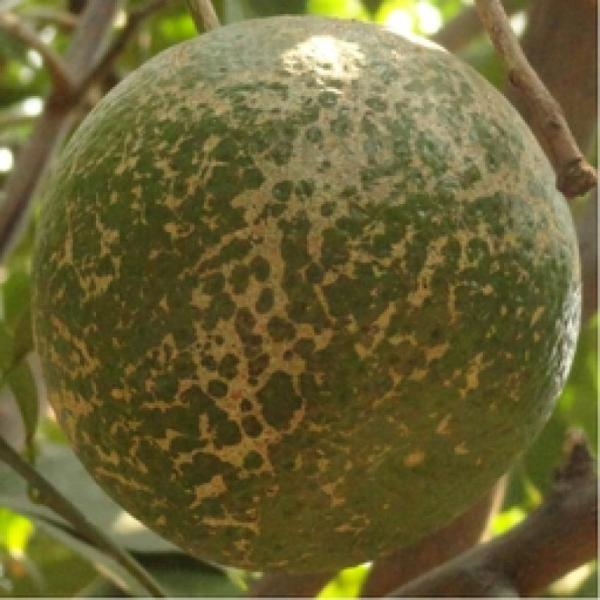Greening: (21, 11, 590, 585)
